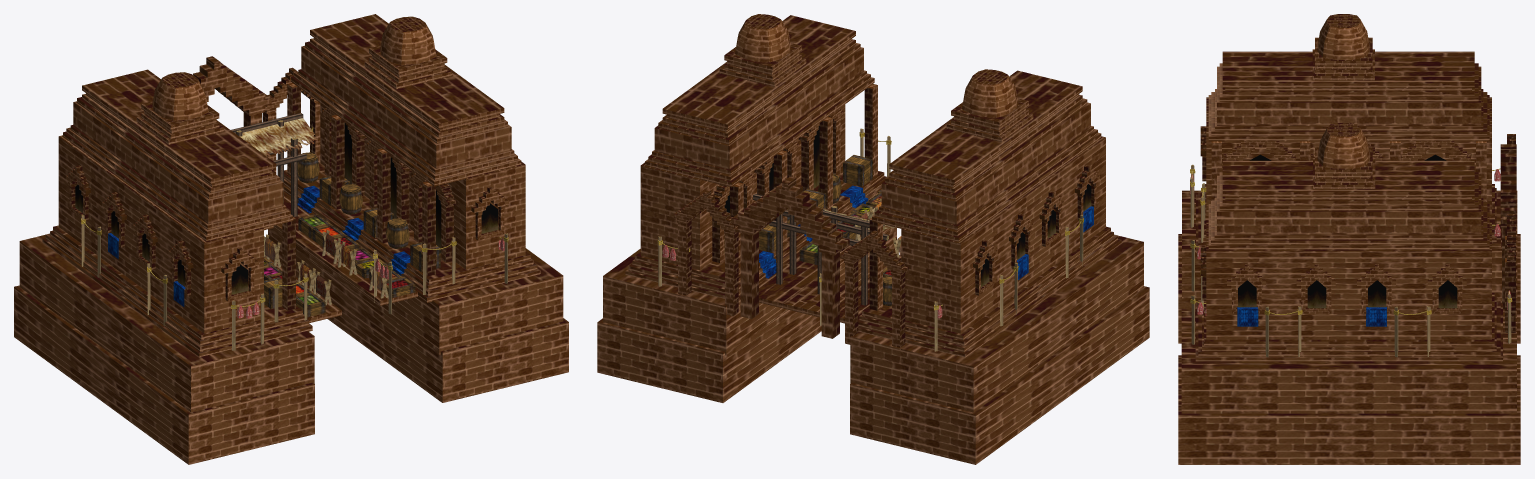
Rendered from dock.dae.
The picture shows the model from 3 angles, left to right: view 1: azimuth 30°, elevation 25°; view 2: azimuth 150°, elevation 25°; view 3: azimuth 270°, elevation 25°; orthographic projection. The views are drawn at different scales.
Visible parts, largest first — view 1: dock; view 2: dock; view 3: dock.
Boxes of the visible parts, x1,y1,x2,y2 form: dock: [14, 14, 568, 464]; dock: [597, 14, 1149, 464]; dock: [1178, 14, 1520, 464].
Size of the model in its own units: 11.08 by 8.82 by 8.49.
